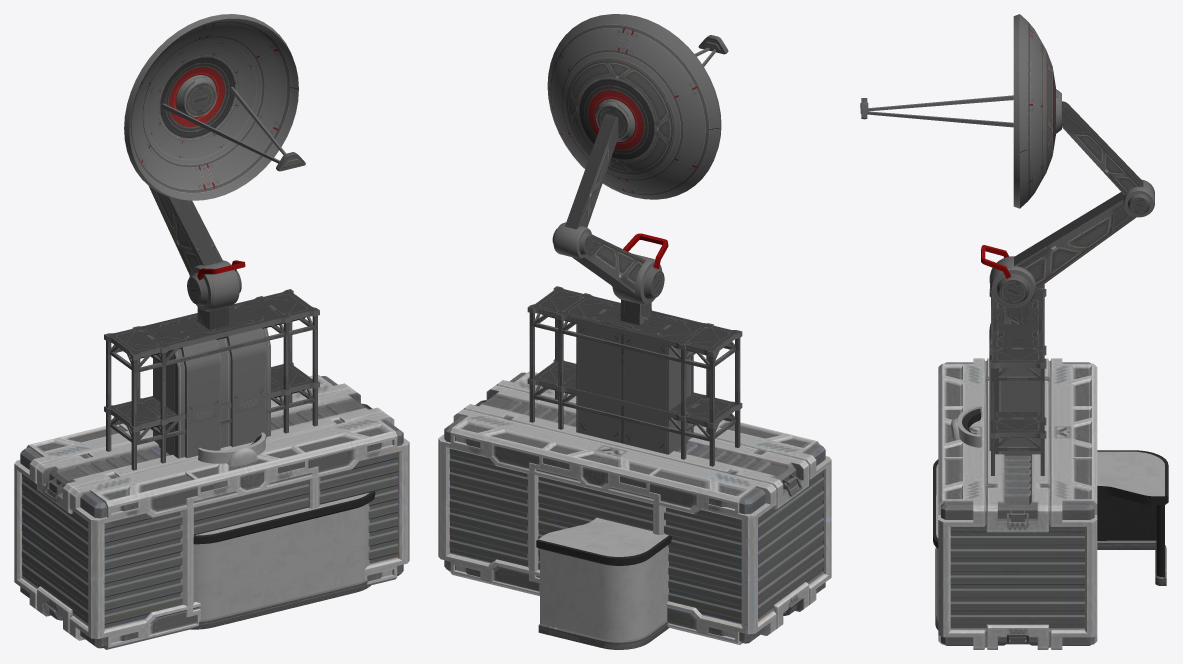
Rendered from ship.glb.
3 renders of one model, left to right at view 1: azimuth 30°, elevation 25°; view 2: azimuth 150°, elevation 25°; view 3: azimuth 270°, elevation 25°, orthographic. The views are drawn at different scales.
Visible parts, largest first — view 1: Prop_Crate_Large, Prop_SatelliteDish, Prop_Desk_L, Prop_Locker, Prop_Shelves_WideTall, Prop_Crate, Prop_Shelves_ThinTall, Prop_Chair; view 2: Prop_Crate_Large, Prop_SatelliteDish, Prop_Desk_L, Prop_Locker, Prop_Shelves_WideTall, Prop_Crate, Prop_Shelves_ThinTall; view 3: Prop_Crate_Large, Prop_SatelliteDish, Prop_Desk_L, Prop_Shelves_WideTall, Prop_Locker, Prop_Shelves_ThinTall, Prop_Chair, Prop_Crate.
Part boxes in pixels (x1,y1,x2,y2): Prop_Crate_Large: (14,375,409,649); Prop_SatelliteDish: (124,14,305,329); Prop_Desk_L: (190,491,375,629); Prop_Locker: (153,328,270,458); Prop_Shelves_WideTall: (104,289,319,470); Prop_Crate: (119,423,320,626); Prop_Shelves_ThinTall: (132,296,291,463); Prop_Chair: (198,432,265,466); Prop_Crate_Large: (438,371,831,644); Prop_SatelliteDish: (547,14,728,325); Prop_Desk_L: (536,517,671,649); Prop_Locker: (576,323,693,454); Prop_Shelves_WideTall: (527,286,742,466); Prop_Crate: (527,420,727,592); Prop_Shelves_ThinTall: (556,293,713,459); Prop_Crate_Large: (938,358,1097,649); Prop_SatelliteDish: (860,14,1154,324); Prop_Desk_L: (933,450,1168,629); Prop_Shelves_WideTall: (989,276,1046,475); Prop_Locker: (989,322,1040,455); Prop_Shelves_ThinTall: (989,289,1046,425); Prop_Chair: (950,405,982,447); Prop_Crate: (943,406,1091,461).
Size of the model in its own units: 3.47 by 5.9 by 2.91.
19 materials, 19 textured.
